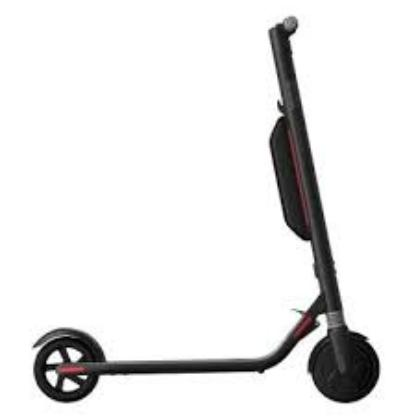bike: (31, 16, 384, 408)
